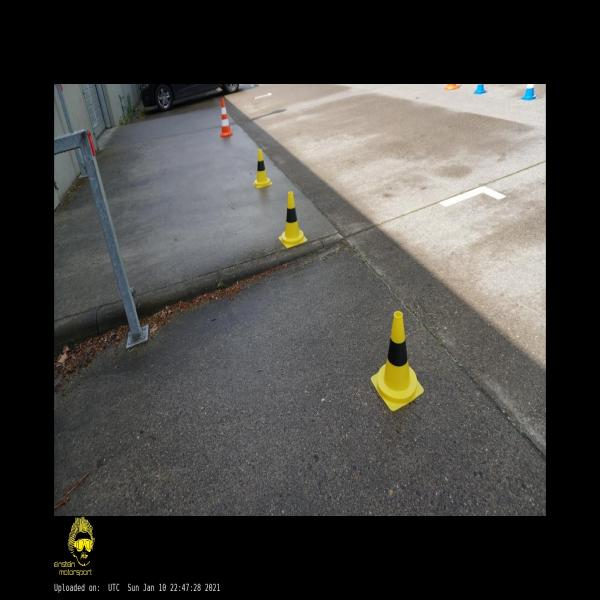blue_cone: (520, 84, 536, 100), (473, 84, 487, 94)
large_orange_cone: (220, 98, 232, 137)
yellow_cone: (371, 311, 424, 411), (278, 192, 308, 248), (253, 149, 272, 188)
